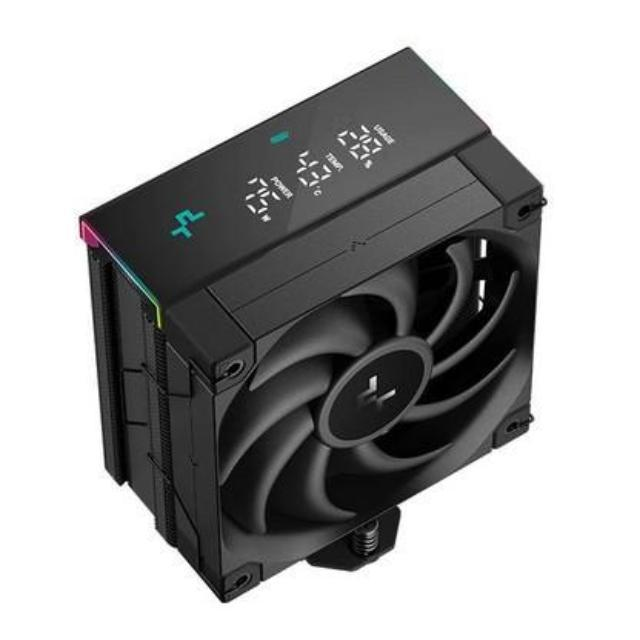CPU_Fan: (79, 42, 542, 606)
